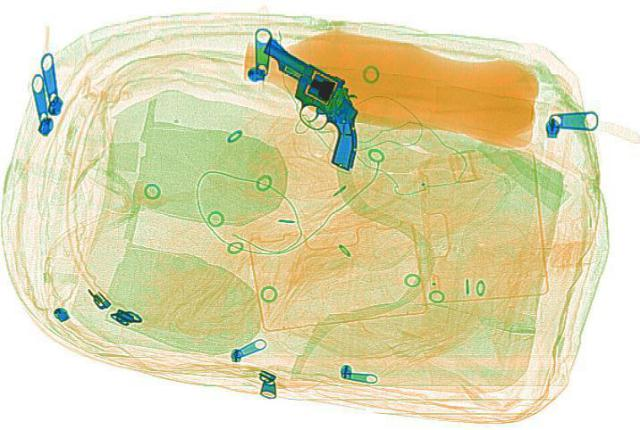Gun: (236, 30, 404, 175)
